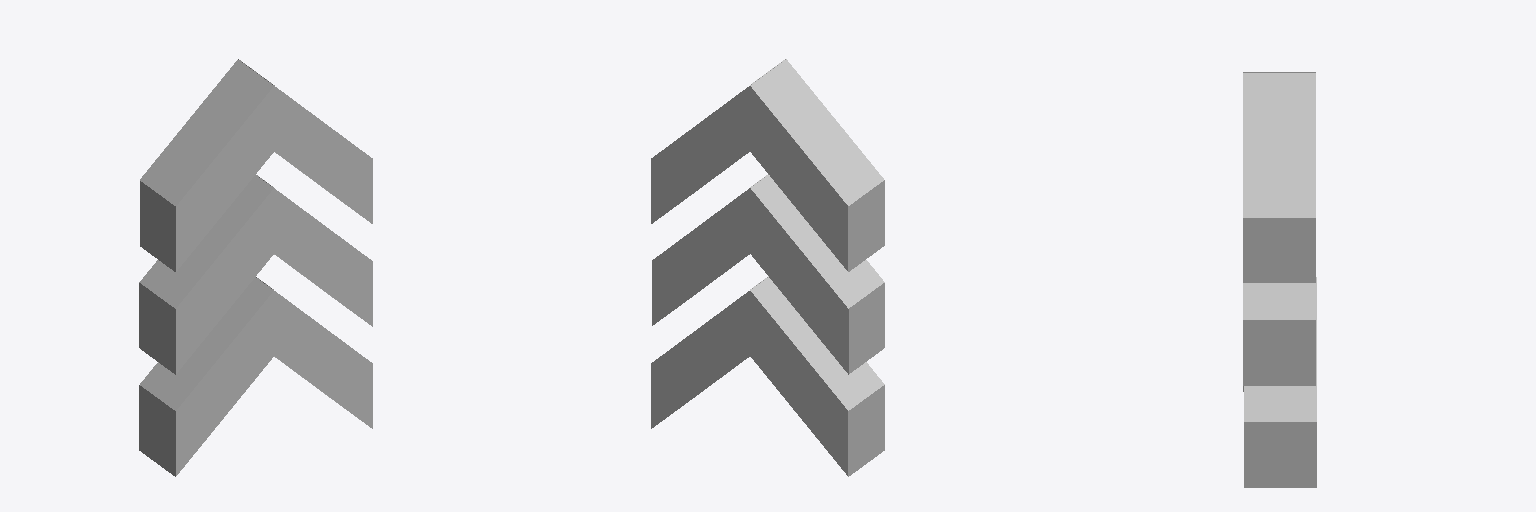
The model's file is SizeUP.obj.
3 views of the same model, side by side, from view 1: azimuth 30°, elevation 25°; view 2: azimuth 150°, elevation 25°; view 3: azimuth 270°, elevation 25° (orthographic).
Visible parts, largest first — view 1: Cube.004, Cube, Cube.002, Cube.001, Cube.003, Cube.005; view 2: Cube.004, Cube, Cube.002, Cube.005, Cube.001, Cube.003; view 3: Cube.005, Cube.001, Cube.003.
Part boxes in pixels (x1,y1,x2,y2): Cube.004: (140, 60, 274, 271); Cube: (139, 277, 273, 476); Cube.002: (139, 175, 273, 374); Cube.001: (256, 277, 372, 428); Cube.003: (259, 177, 372, 326); Cube.005: (238, 59, 372, 223); Cube.004: (750, 59, 884, 271); Cube: (750, 276, 884, 476); Cube.002: (750, 175, 884, 374); Cube.005: (651, 59, 785, 223); Cube.001: (651, 277, 767, 428); Cube.003: (652, 174, 768, 325); Cube.005: (1243, 73, 1315, 282); Cube.001: (1244, 277, 1316, 487); Cube.003: (1243, 283, 1315, 385).
Bounding box in the file's own units: 6.27 × 11.17 × 2.01.